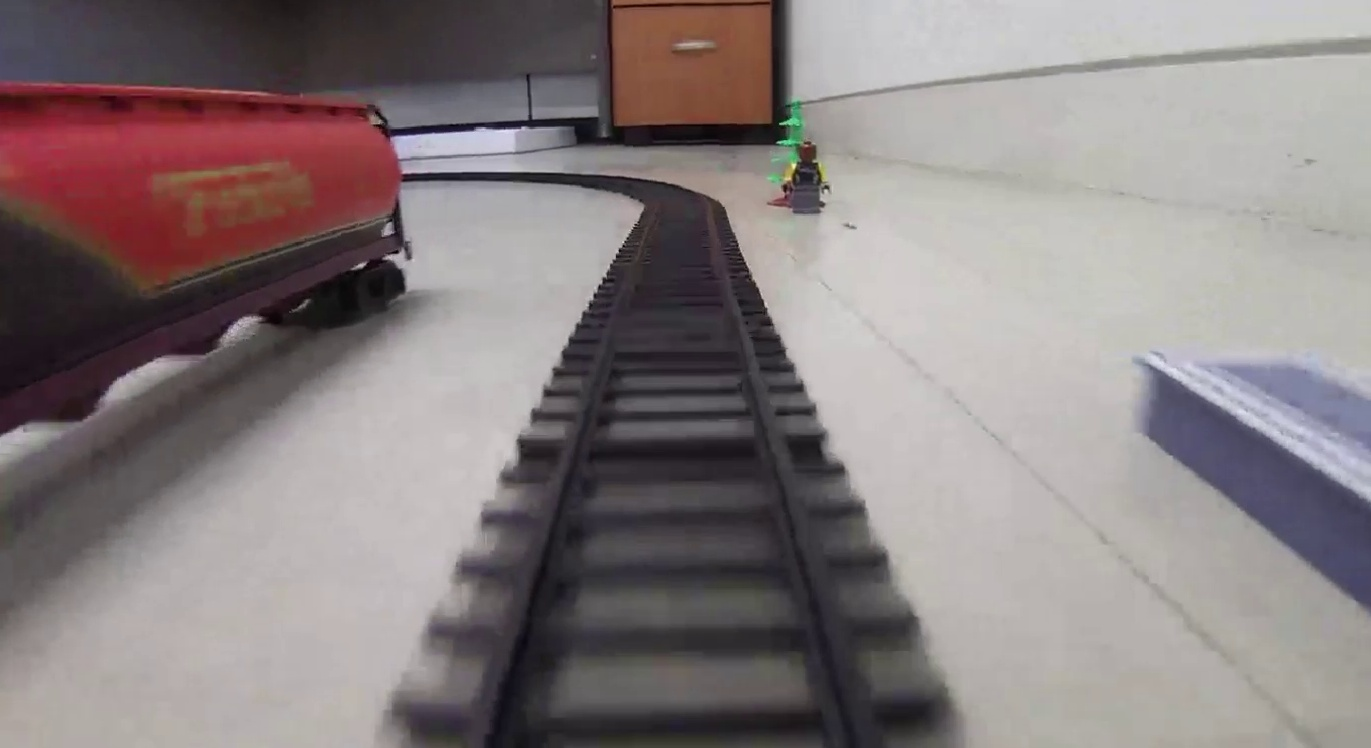people: (789, 139, 829, 215)
